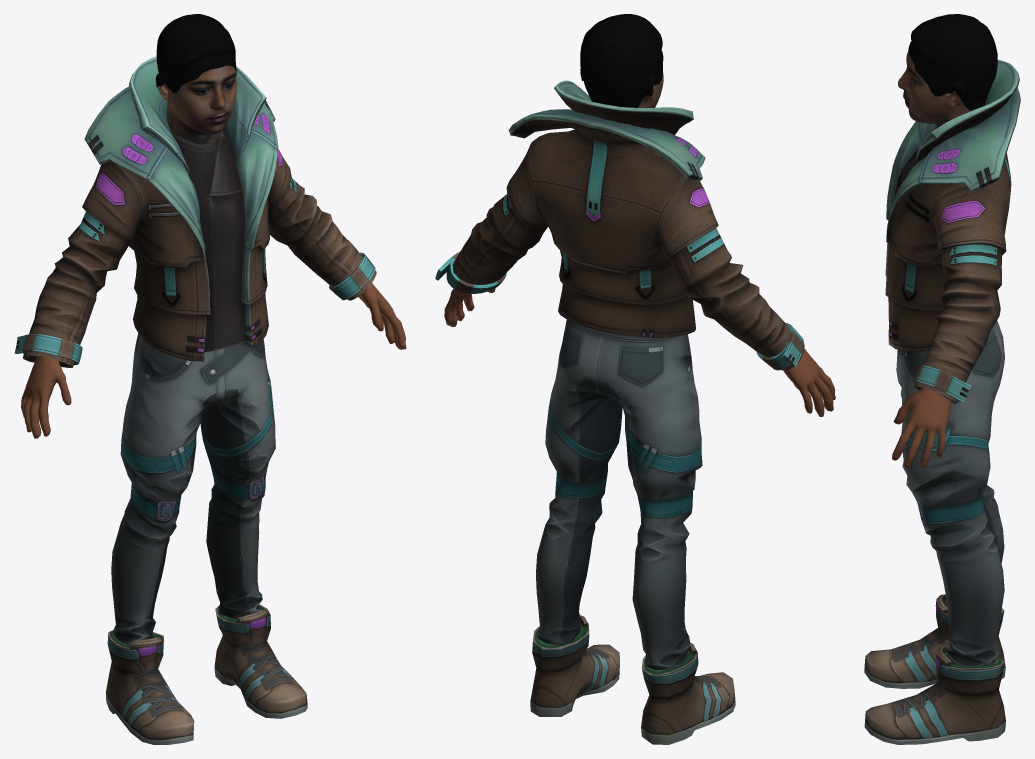
3 views of the same model, side by side, from view 1: azimuth 30°, elevation 25°; view 2: azimuth 150°, elevation 25°; view 3: azimuth 270°, elevation 25° (orthographic).
Parts seen in each view (by area): view 1: Wolf3D_Outfit_Top, Wolf3D_Outfit_Bottom, Wolf3D_Outfit_Footwear, Mesh, Wolf3D_Body; view 2: Wolf3D_Outfit_Top, Wolf3D_Outfit_Bottom, Wolf3D_Outfit_Footwear, Mesh, Wolf3D_Body; view 3: Wolf3D_Outfit_Top, Wolf3D_Outfit_Bottom, Wolf3D_Outfit_Footwear, Mesh, Wolf3D_Body.
Boxes of the visible parts, x1,y1,x2,y2 form: Wolf3D_Outfit_Top: (14, 56, 376, 367); Wolf3D_Outfit_Bottom: (111, 333, 275, 644); Wolf3D_Outfit_Footwear: (106, 604, 307, 744); Mesh: (155, 14, 236, 144); Wolf3D_Body: (21, 283, 406, 438); Wolf3D_Outfit_Top: (435, 80, 804, 370); Wolf3D_Outfit_Bottom: (536, 319, 702, 670); Wolf3D_Outfit_Footwear: (530, 615, 735, 744); Mesh: (580, 14, 663, 107); Wolf3D_Body: (444, 288, 835, 416); Wolf3D_Outfit_Top: (885, 59, 1020, 403); Wolf3D_Outfit_Bottom: (896, 320, 1004, 666); Wolf3D_Outfit_Footwear: (864, 594, 1005, 744); Mesh: (898, 14, 997, 127); Wolf3D_Body: (892, 388, 950, 468).
Size of the model in its own units: 112 by 196 by 40.39.
Materials: 6 (6 with a texture image).
